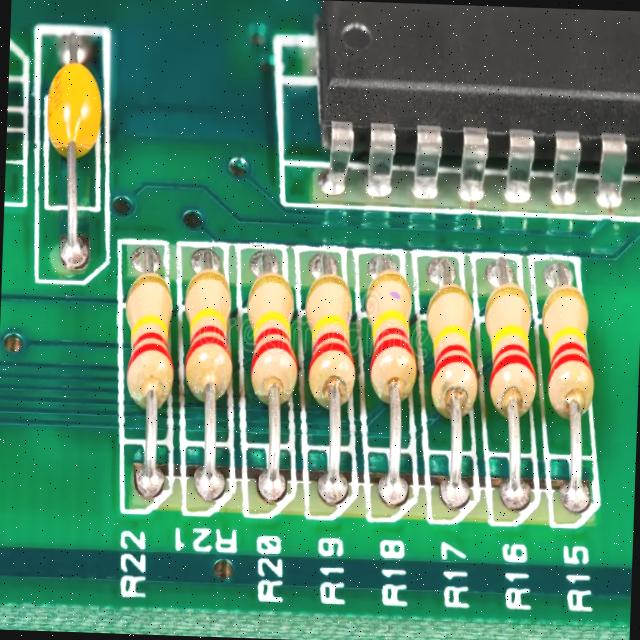resistor: (114, 247, 184, 438), (475, 269, 546, 438), (409, 269, 480, 435), (352, 256, 416, 428), (299, 262, 362, 436), (532, 274, 602, 428), (241, 257, 302, 428), (176, 258, 237, 420)
